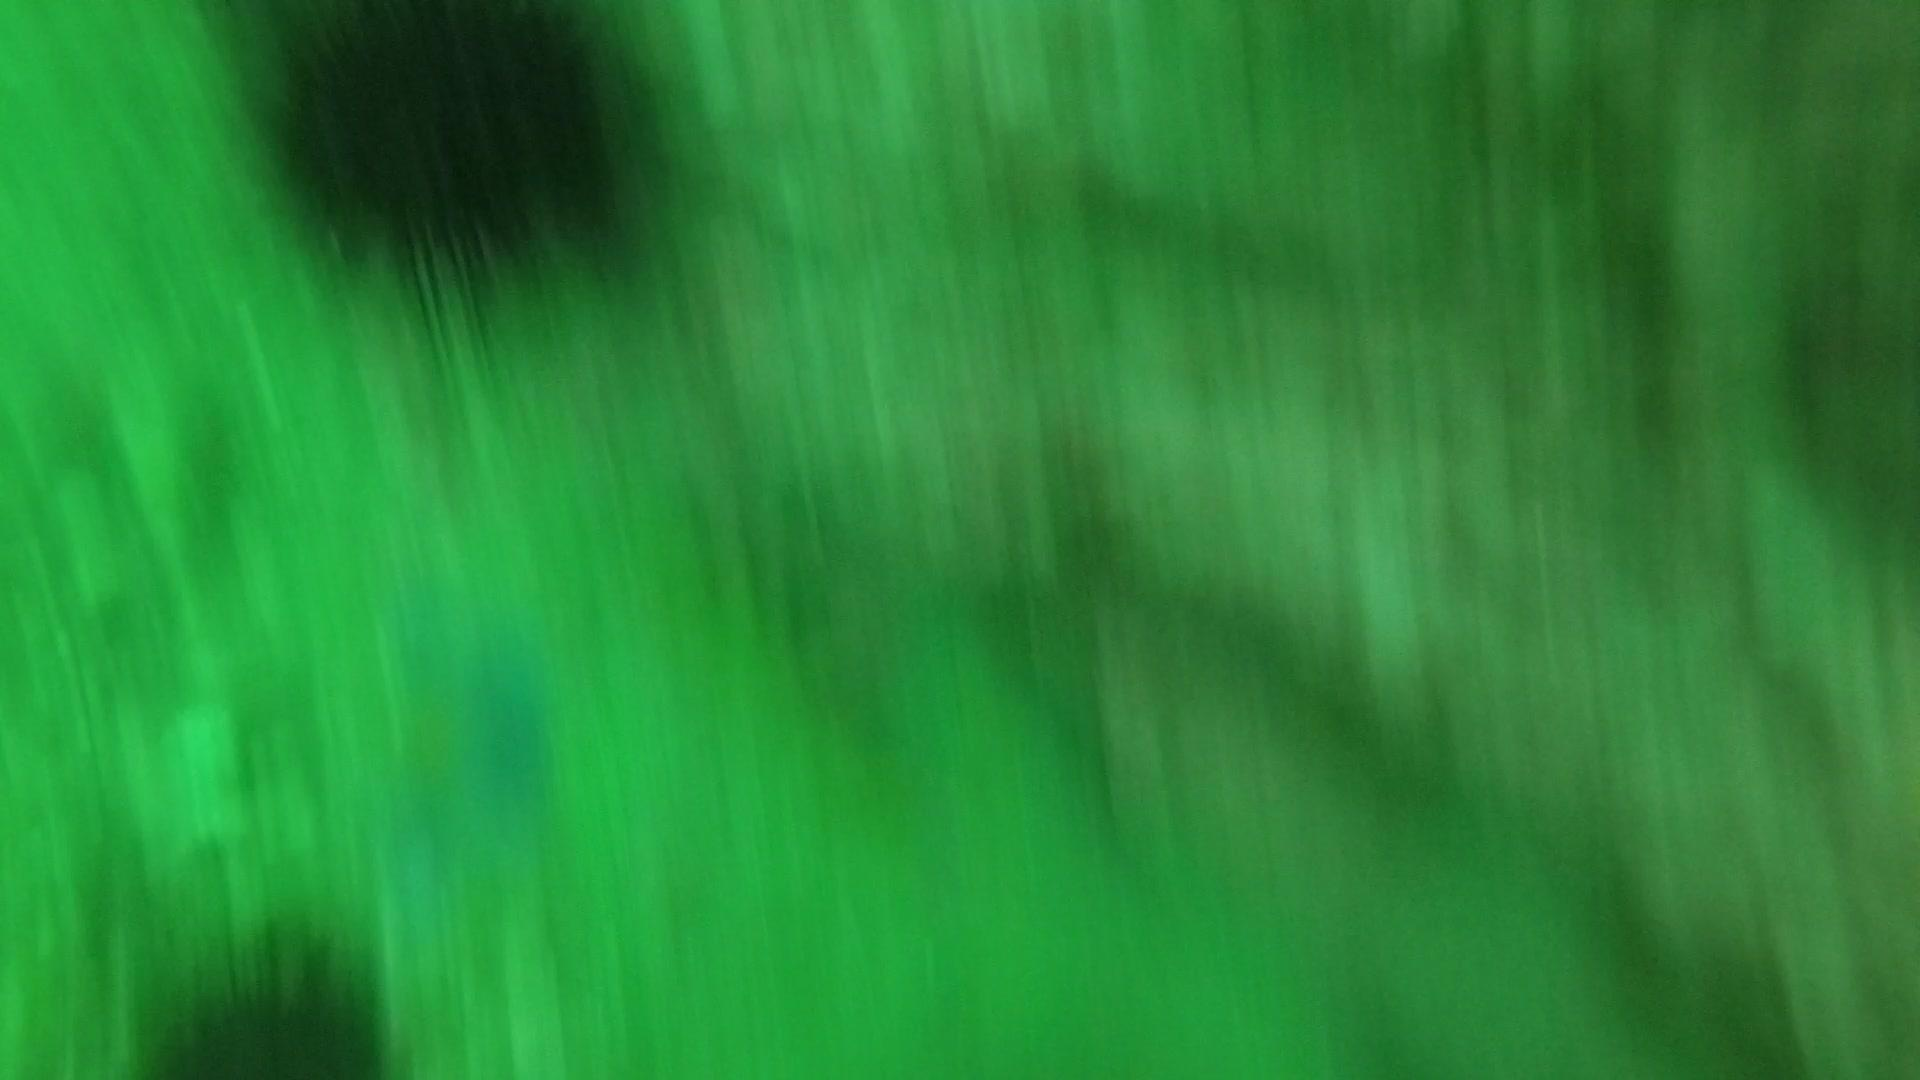echinus: (225, 4, 686, 328), (135, 934, 402, 1077)
starfish: (361, 604, 574, 891)
